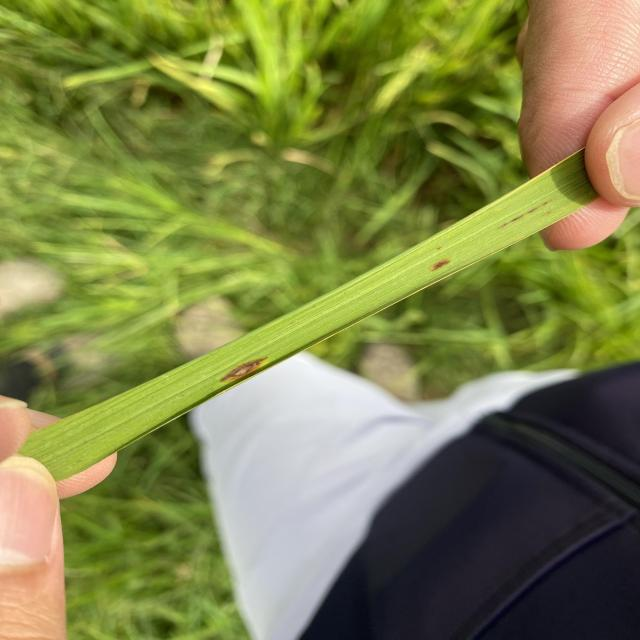Dom nau: (219, 356, 270, 382), (430, 258, 452, 272)
